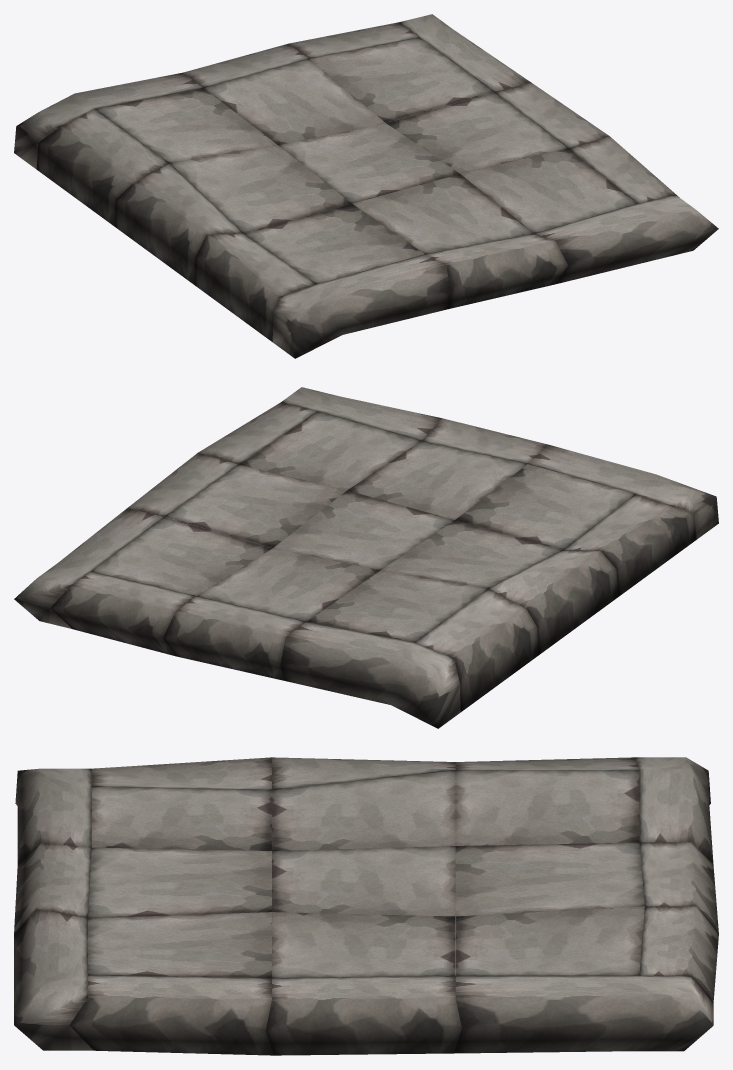
File: rock_slab_5m.DAE
3 renders of one model, top to bottom at view 1: azimuth 30°, elevation 25°; view 2: azimuth 150°, elevation 25°; view 3: azimuth 270°, elevation 25°, orthographic. The views are drawn at different scales.
Visible parts, largest first — view 1: Box01; view 2: Box01; view 3: Box01.
Boxes of the visible parts, x1,y1,x2,y2 form: Box01: (14, 14, 718, 358); Box01: (14, 387, 718, 728); Box01: (14, 757, 718, 1055).
Bounding box in the file's own units: 6.93 × 0.8054 × 7.92.
